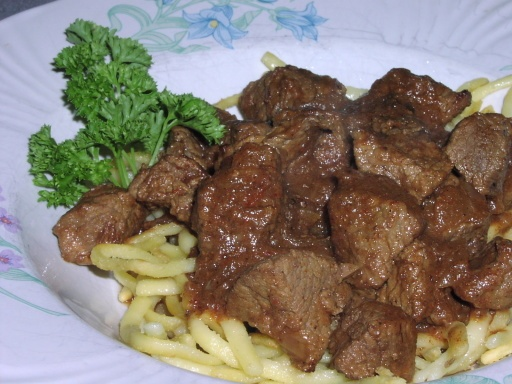background: (22, 10, 409, 230)
